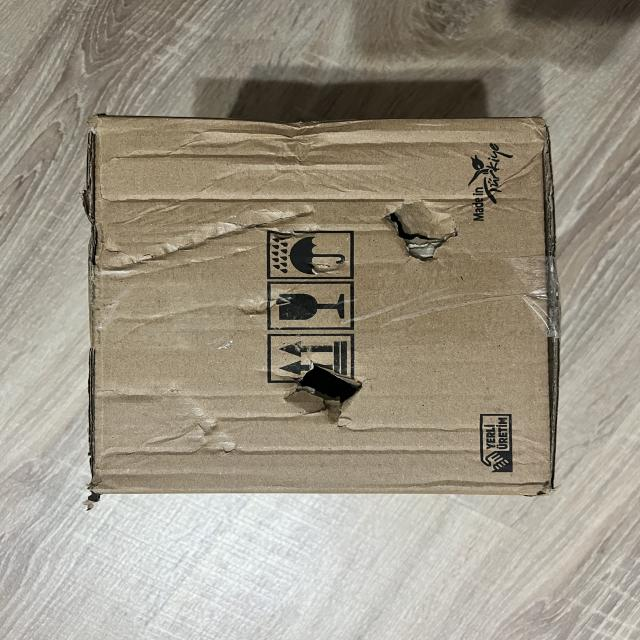damaged: (74, 103, 571, 506), (112, 196, 330, 285), (277, 351, 372, 429), (377, 189, 458, 275), (235, 110, 374, 150)
